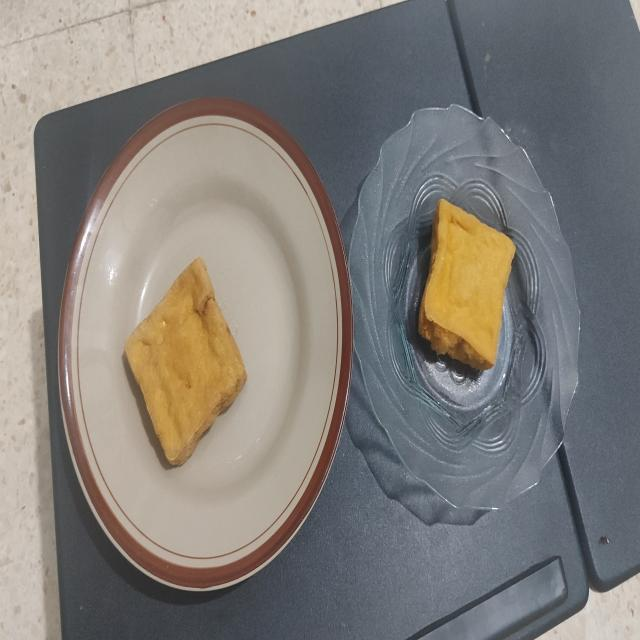tahu_goreng: (125, 258, 247, 465), (418, 199, 516, 370)
